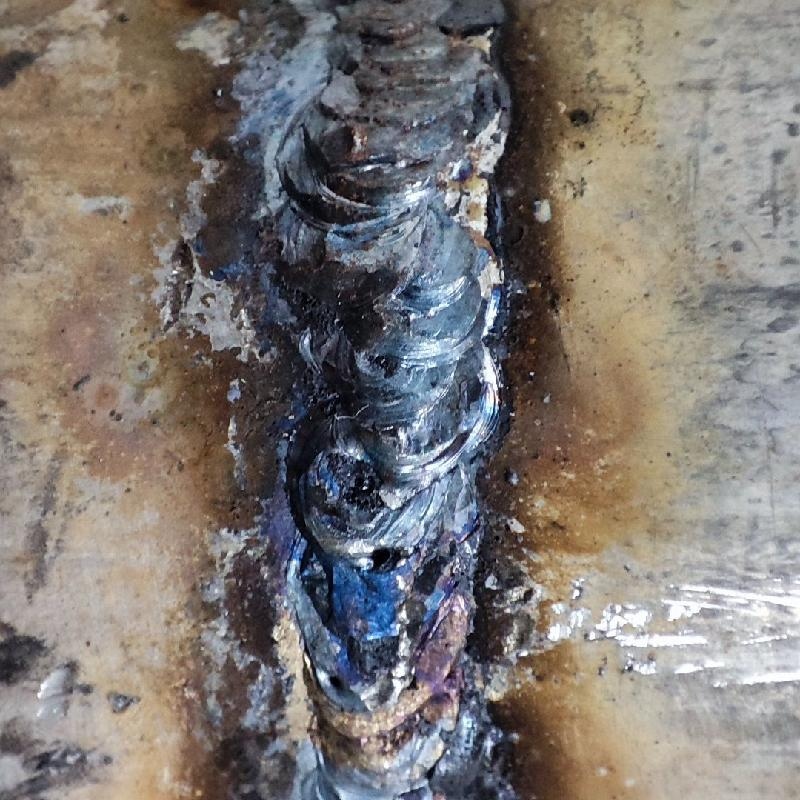Surface_pores: (356, 532, 405, 580), (317, 659, 359, 705)
